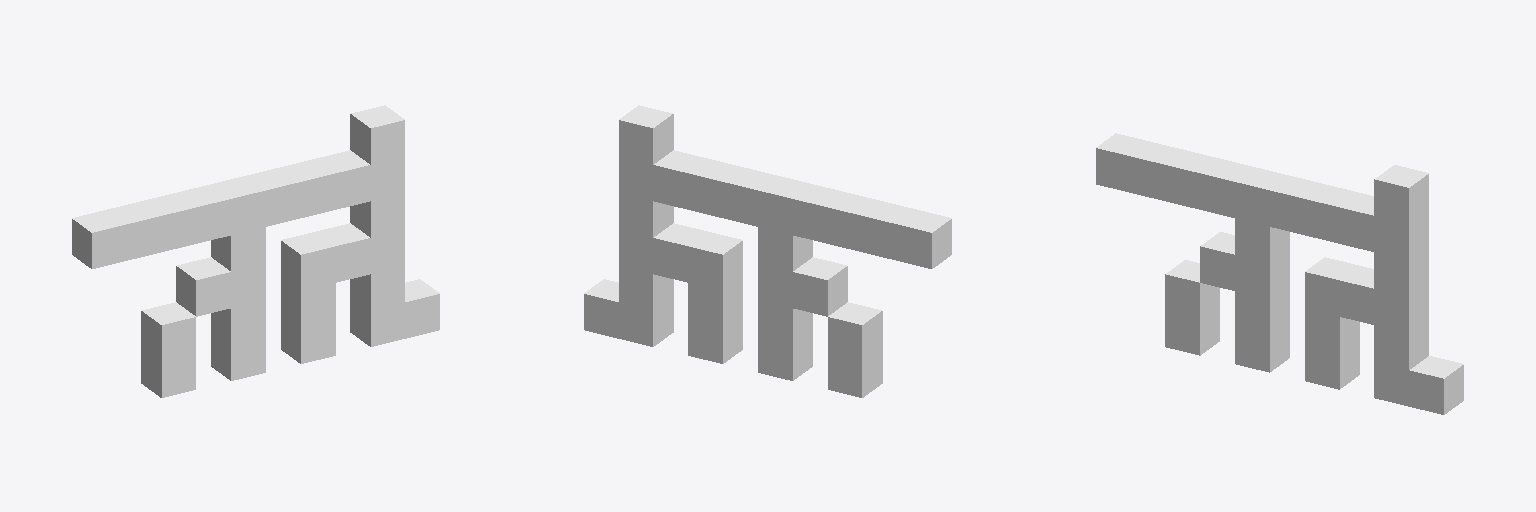
Rendered from GermanMG.obj.
The picture shows the model from 3 angles: view 1: azimuth 30°, elevation 25°; view 2: azimuth 150°, elevation 25°; view 3: azimuth 330°, elevation 25°; orthographic projection.
Bounding box in the file's own units: 10 × 6 × 1.